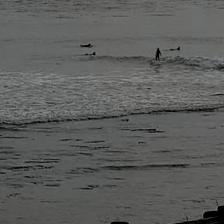surfer: (154, 48, 162, 62), (79, 43, 92, 47), (84, 51, 96, 55), (170, 46, 180, 50)
